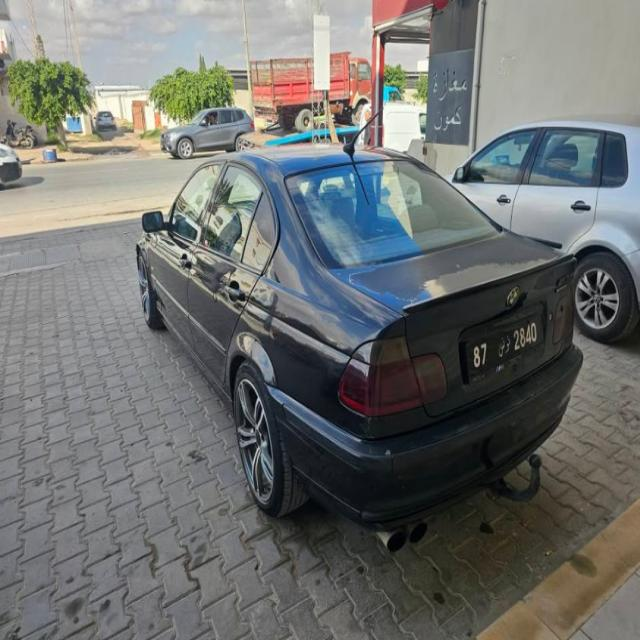licence plate: (467, 318, 542, 375)
